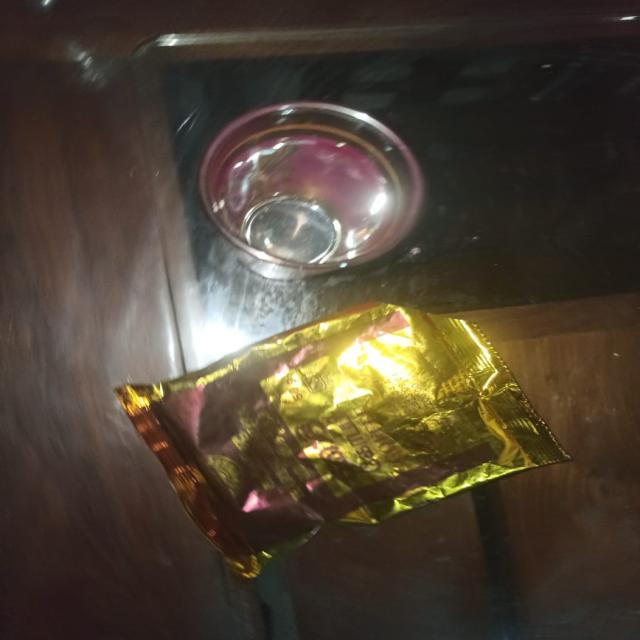Harischandra Coffee: (111, 323, 549, 516)
